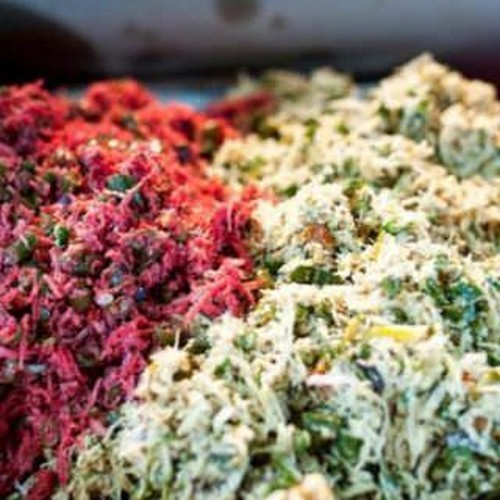lawar: (22, 98, 500, 499)
